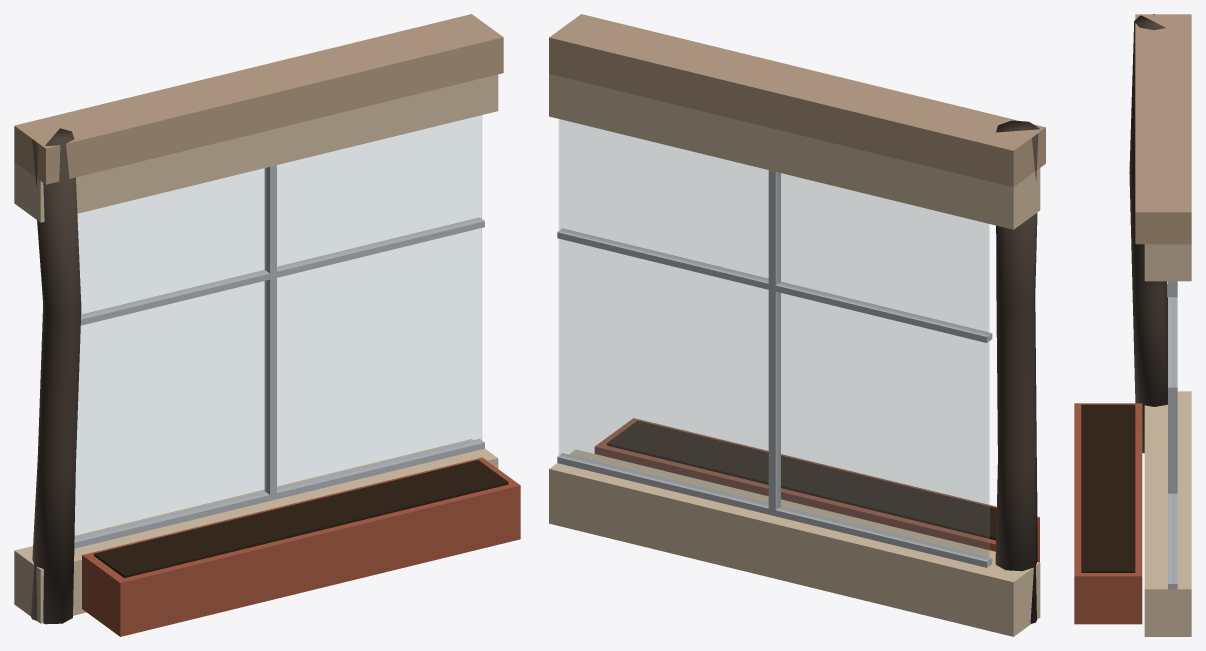
The model's file is city_facade_window_b.glb.
3 views of the same model, side by side, from view 1: azimuth 30°, elevation 25°; view 2: azimuth 150°, elevation 25°; view 3: azimuth 270°, elevation 25° (orthographic). The views are drawn at different scales.
Parts seen in each view (by area): view 1: CityFacadeWindowB_Glass, CityFacadeWindowB_Band, CityFacadeWindowB_Trough, CityFacadeWindowB_Rib, CityFacadeWindowB_Head, CityFacadeWindowB_TroughSoil, CityFacadeWindowB_Spandrel, CityFacadeWindowB_Transom0.5, CityFacadeWindowB_Transom2.3, CityFacadeWindowB_Mullion; view 2: CityFacadeWindowB_Glass, CityFacadeWindowB_Spandrel, CityFacadeWindowB_Band, CityFacadeWindowB_Head, CityFacadeWindowB_Rib, CityFacadeWindowB_TroughSoil, CityFacadeWindowB_Trough, CityFacadeWindowB_Transom0.5, CityFacadeWindowB_Transom2.3, CityFacadeWindowB_Mullion; view 3: CityFacadeWindowB_Band, CityFacadeWindowB_Spandrel, CityFacadeWindowB_TroughSoil, CityFacadeWindowB_Trough, CityFacadeWindowB_Rib, CityFacadeWindowB_Head, CityFacadeWindowB_Mullion, CityFacadeWindowB_Transom0.5, CityFacadeWindowB_Transom2.3, CityFacadeWindowB_Glass.
Part boxes in pixels (x1=…): CityFacadeWindowB_Glass: x1=75, y1=115, x2=481, y2=539; CityFacadeWindowB_Band: x1=14, y1=14, x2=503, y2=184; CityFacadeWindowB_Trough: x1=82, y1=457, x2=520, y2=636; CityFacadeWindowB_Rib: x1=31, y1=128, x2=81, y2=624; CityFacadeWindowB_Head: x1=14, y1=74, x2=498, y2=222; CityFacadeWindowB_TroughSoil: x1=94, y1=460, x2=508, y2=578; CityFacadeWindowB_Spandrel: x1=14, y1=439, x2=498, y2=623; CityFacadeWindowB_Transom0.5: x1=74, y1=439, x2=484, y2=548; CityFacadeWindowB_Transom2.3: x1=80, y1=217, x2=484, y2=325; CityFacadeWindowB_Mullion: x1=264, y1=165, x2=276, y2=500; CityFacadeWindowB_Glass: x1=559, y1=119, x2=989, y2=560; CityFacadeWindowB_Spandrel: x1=549, y1=449, x2=1040, y2=636; CityFacadeWindowB_Band: x1=549, y1=14, x2=1045, y2=187; CityFacadeWindowB_Head: x1=549, y1=74, x2=1040, y2=229; CityFacadeWindowB_Rib: x1=995, y1=120, x2=1039, y2=623; CityFacadeWindowB_TroughSoil: x1=607, y1=421, x2=996, y2=540; CityFacadeWindowB_Trough: x1=594, y1=418, x2=1039, y2=562; CityFacadeWindowB_Transom0.5: x1=557, y1=453, x2=992, y2=567; CityFacadeWindowB_Transom2.3: x1=557, y1=228, x2=992, y2=342; CityFacadeWindowB_Mullion: x1=768, y1=170, x2=780, y2=516; CityFacadeWindowB_Band: x1=1135, y1=14, x2=1191, y2=244; CityFacadeWindowB_Spandrel: x1=1144, y1=391, x2=1191, y2=636; CityFacadeWindowB_TroughSoil: x1=1081, y1=404, x2=1135, y2=572; CityFacadeWindowB_Trough: x1=1074, y1=403, x2=1142, y2=624; CityFacadeWindowB_Rib: x1=1129, y1=14, x2=1167, y2=453; CityFacadeWindowB_Head: x1=1144, y1=244, x2=1191, y2=281; CityFacadeWindowB_Mullion: x1=1168, y1=286, x2=1177, y2=493; CityFacadeWindowB_Transom0.5: x1=1168, y1=493, x2=1177, y2=589; CityFacadeWindowB_Transom2.3: x1=1168, y1=297, x2=1177, y2=392; CityFacadeWindowB_Glass: x1=1173, y1=287, x2=1174, y2=583.
Size of the model in its own units: 4.02 by 4.02 by 1.
